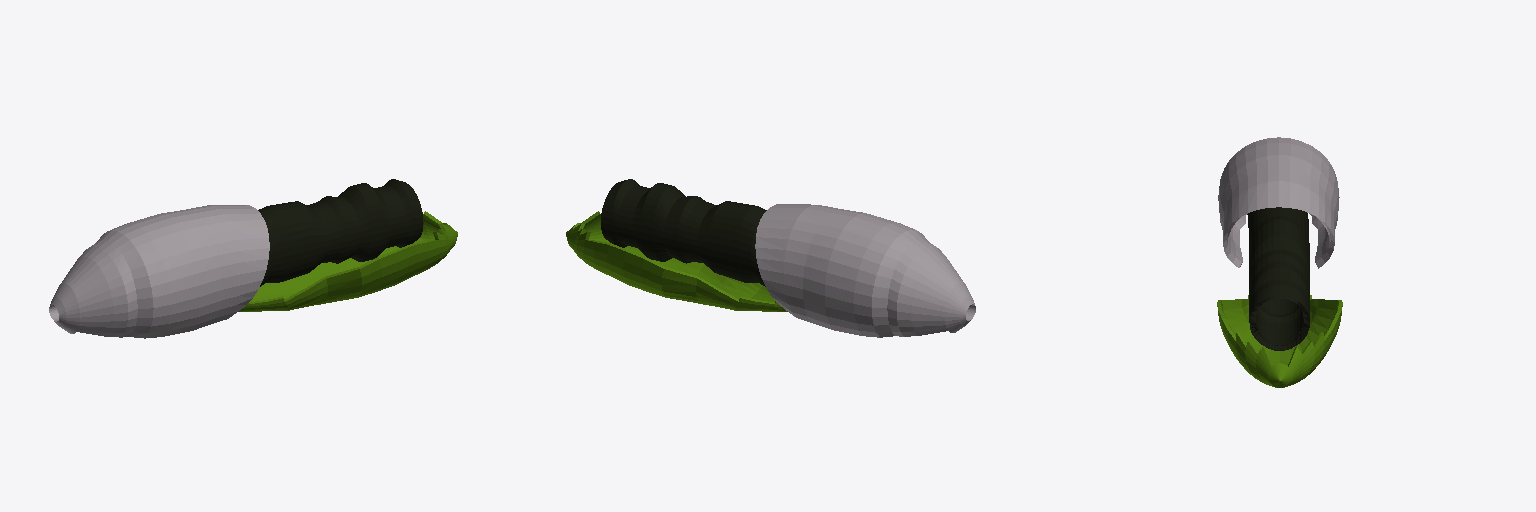
Rendered from GunPrototype.obj.
3 views of the same model, side by side, from view 1: azimuth 30°, elevation 25°; view 2: azimuth 150°, elevation 25°; view 3: azimuth 270°, elevation 25° (orthographic).
Visible parts, largest first — view 1: RecoilDampener_Cylinder.003, Barrel_Cylinder.002, GravGrip_Sphere; view 2: RecoilDampener_Cylinder.003, Barrel_Cylinder.002, GravGrip_Sphere; view 3: RecoilDampener_Cylinder.003, Barrel_Cylinder.002, GravGrip_Sphere.
Boxes of the visible parts, <box> form: RecoilDampener_Cylinder.003: <box>49,205,269,338</box>; Barrel_Cylinder.002: <box>258,179,423,286</box>; GravGrip_Sphere: <box>238,211,457,311</box>; RecoilDampener_Cylinder.003: <box>755,204,975,337</box>; Barrel_Cylinder.002: <box>601,179,766,286</box>; GravGrip_Sphere: <box>566,211,787,311</box>; RecoilDampener_Cylinder.003: <box>1218,137,1339,268</box>; Barrel_Cylinder.002: <box>1247,207,1309,350</box>; GravGrip_Sphere: <box>1217,295,1342,387</box>.
Size of the model in its own units: 7.71 by 2.17 by 2.07.